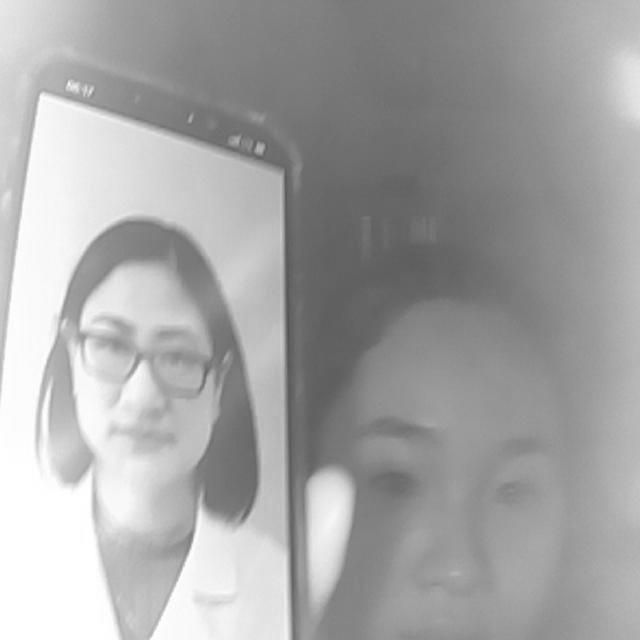fake: (1, 44, 311, 638)
